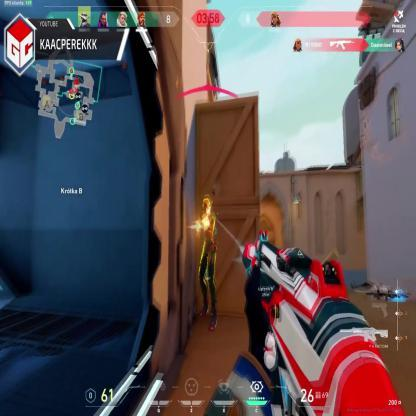enemy: (196, 198, 218, 332)
